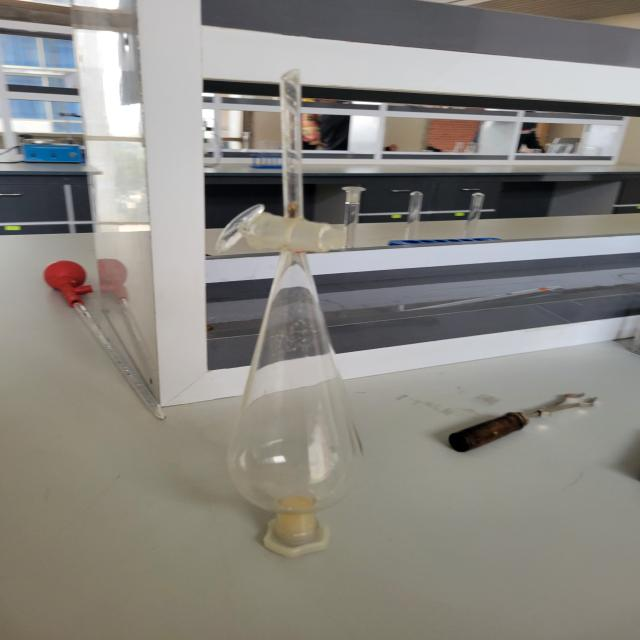Separating_Funnel: (182, 58, 438, 572)
